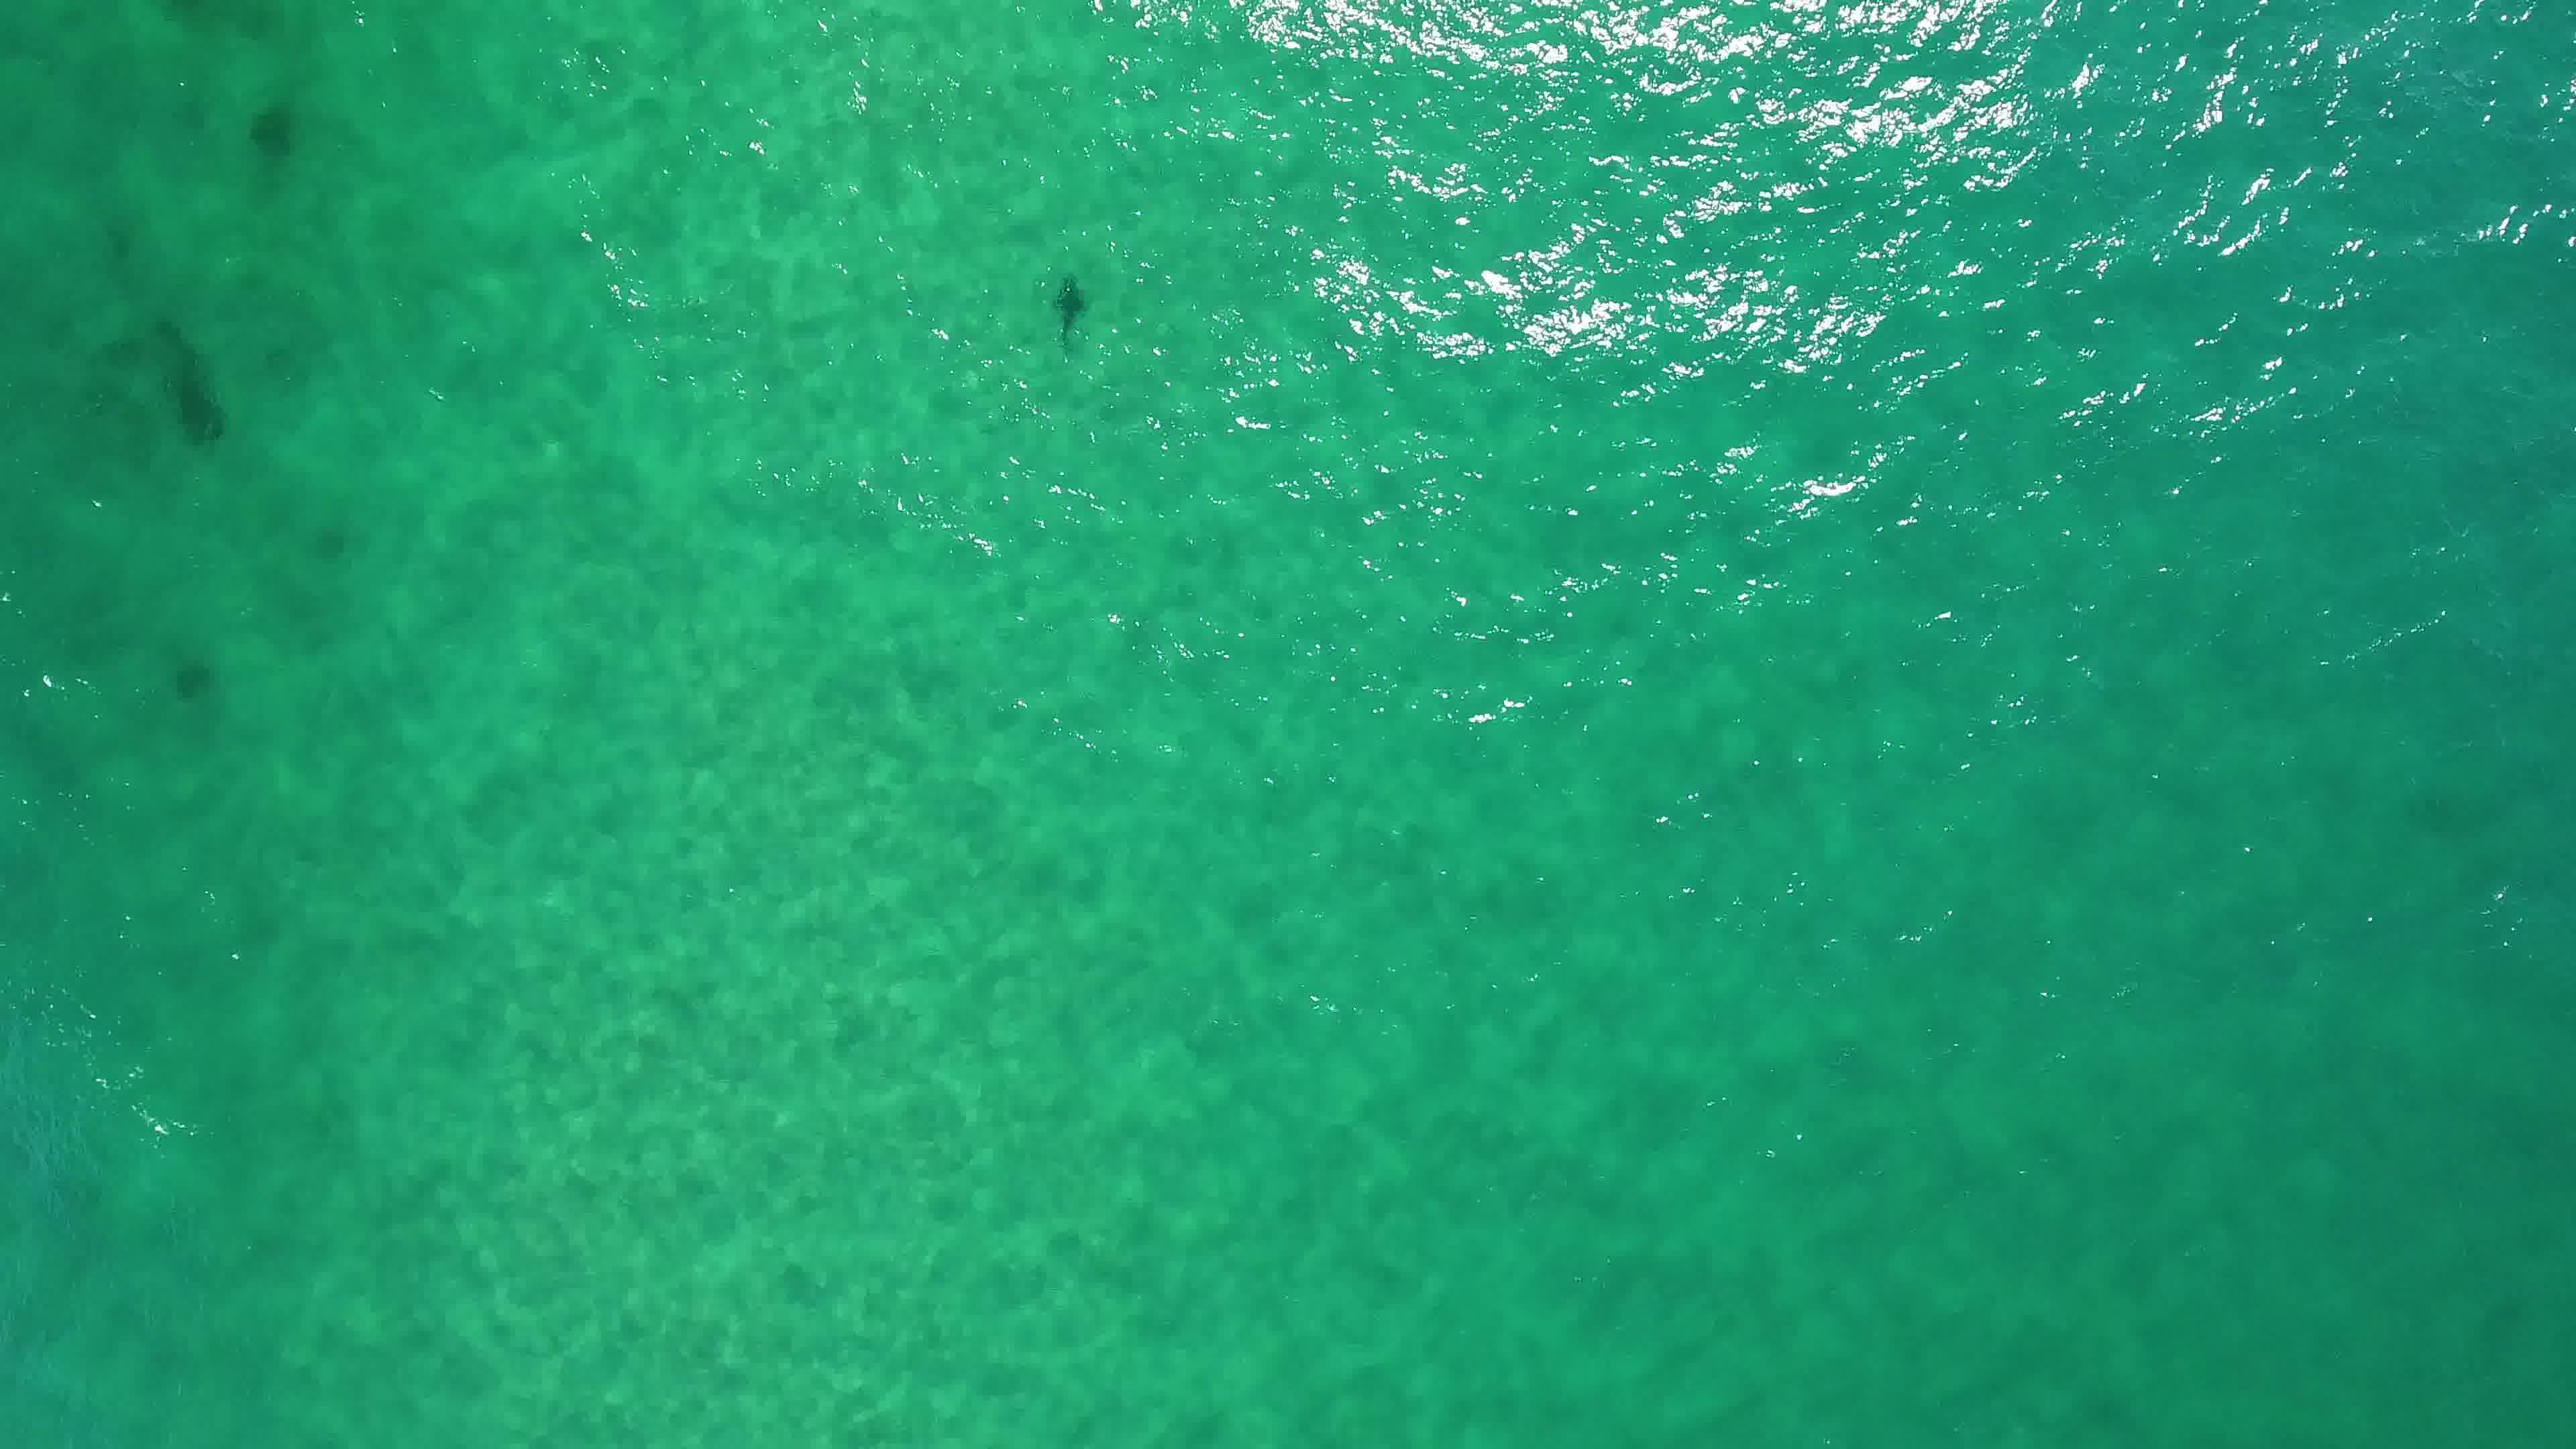shark: (1047, 265, 1093, 345)
